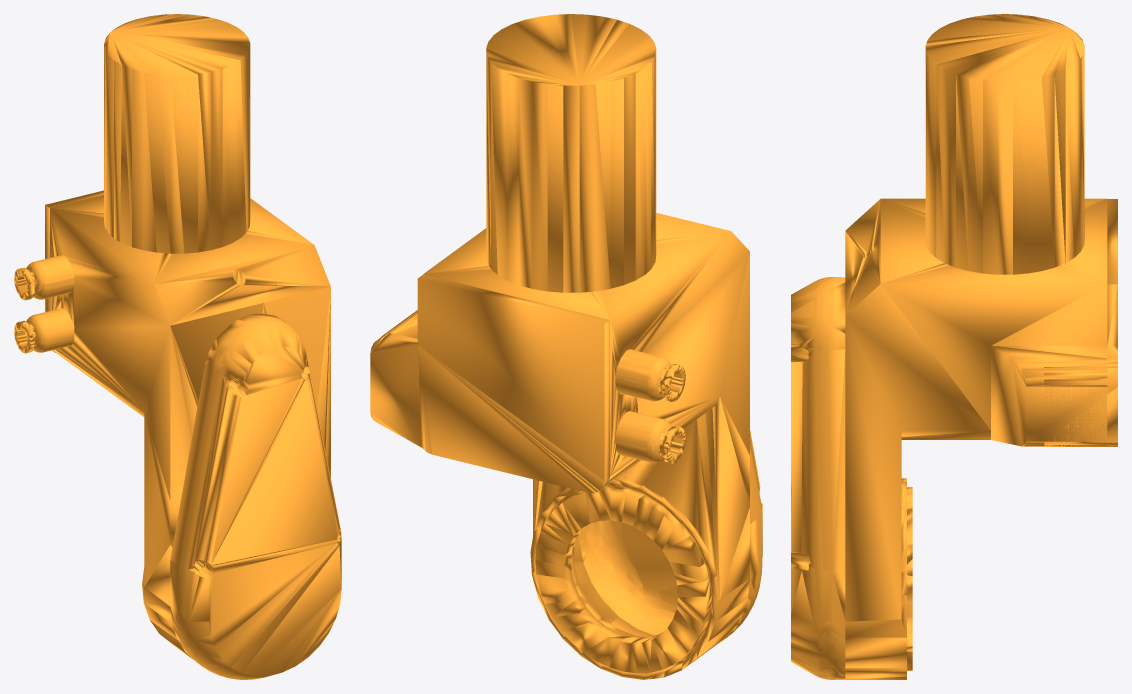
Rendered from PAROL6Link4.dae.
3 renders of one model, left to right at view 1: azimuth 30°, elevation 25°; view 2: azimuth 150°, elevation 25°; view 3: azimuth 270°, elevation 25°, orthographic. The views are drawn at different scales.
Visible parts, largest first — view 1: L4; view 2: L4; view 3: L4.
Part boxes in pixels (box(x1,y1,x2,y2)): L4: box(14, 14, 341, 679); L4: box(370, 14, 762, 679); L4: box(791, 14, 1117, 679).
Bounding box in the file's own units: 0.0864 × 0.0923 × 0.1942.
